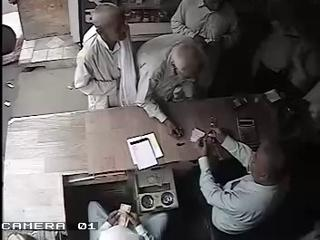Normal: (195, 114, 292, 240), (134, 33, 210, 136), (168, 0, 244, 93), (97, 208, 161, 240)
shoplifting: (73, 1, 138, 111)
